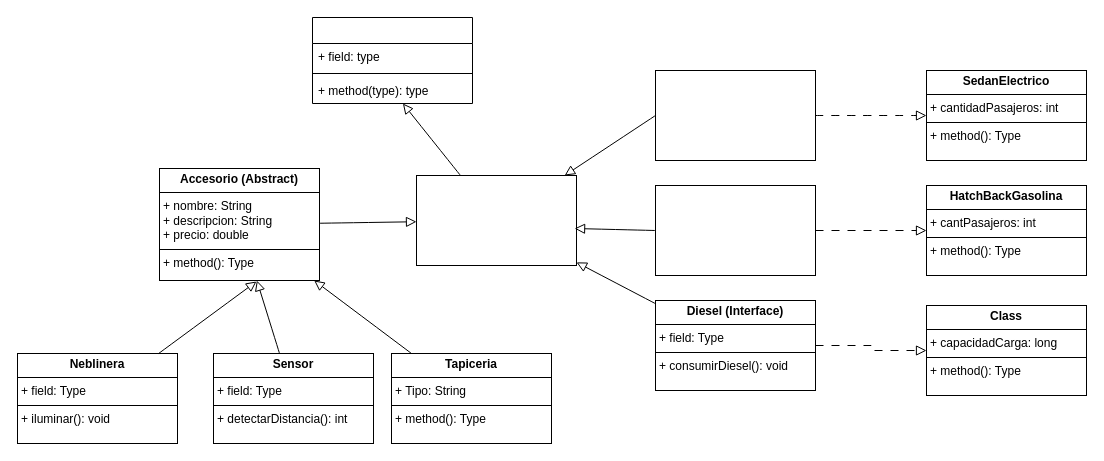
Some shapes in this 1104 by 461 pixel diagram are drawn without their labels. Each missing label, with the box of its shape:
Electrico (Interface) + field: Type + cargar(): void + descargar(): void: (654, 70, 816, 160)
Fabrica: (312, 16, 472, 104)
Gasolina (Interface) + field: Type + consumirGasolina(): void: (654, 184, 816, 276)
Vehiculo (Abstract) + modelo: String + marca: String + agregarAccesorio(): void: (416, 174, 576, 266)
